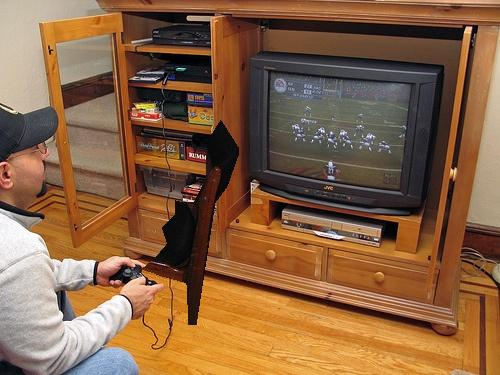tampered: (143, 121, 239, 325)
